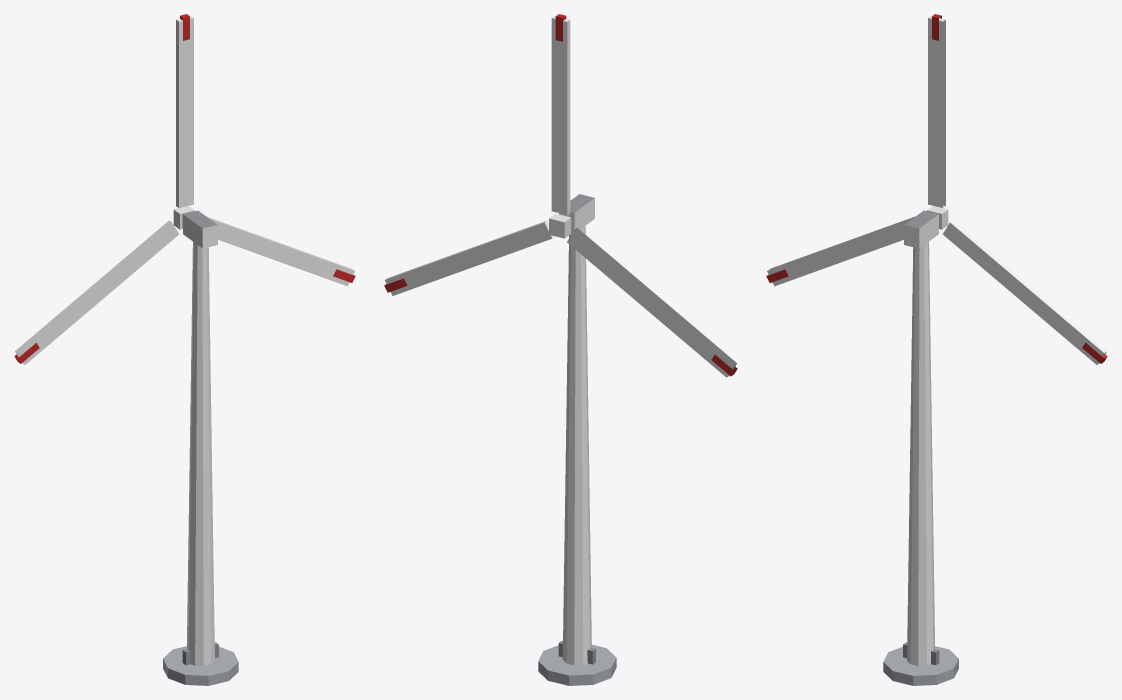
Rendered from Svc_wind.fbx.
The picture shows the model from 3 angles, left to right: view 1: azimuth 30°, elevation 25°; view 2: azimuth 150°, elevation 25°; view 3: azimuth 330°, elevation 25°; orthographic projection. The views are drawn at different scales.
Parts seen in each view (by area): view 1: Svc_wind_LOD0; view 2: Svc_wind_LOD0; view 3: Svc_wind_LOD0.
Boxes of the visible parts, x1,y1,x2,y2 form: Svc_wind_LOD0: (14, 14, 355, 685); Svc_wind_LOD0: (384, 14, 737, 685); Svc_wind_LOD0: (766, 14, 1107, 685).
Size of what is drawn, in the model's own units: 2467 by 4480 by 478.
Materials: 1 (1 with a texture image).
